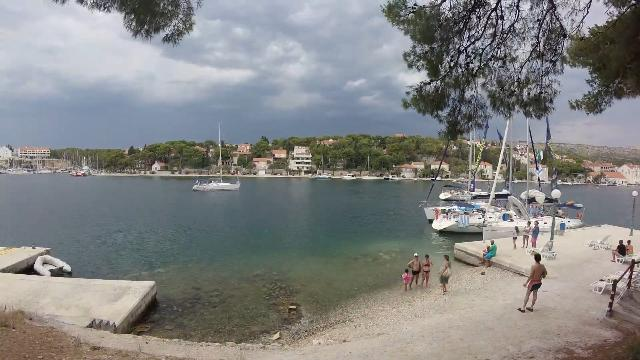Sailboat: (187, 174, 247, 195)
